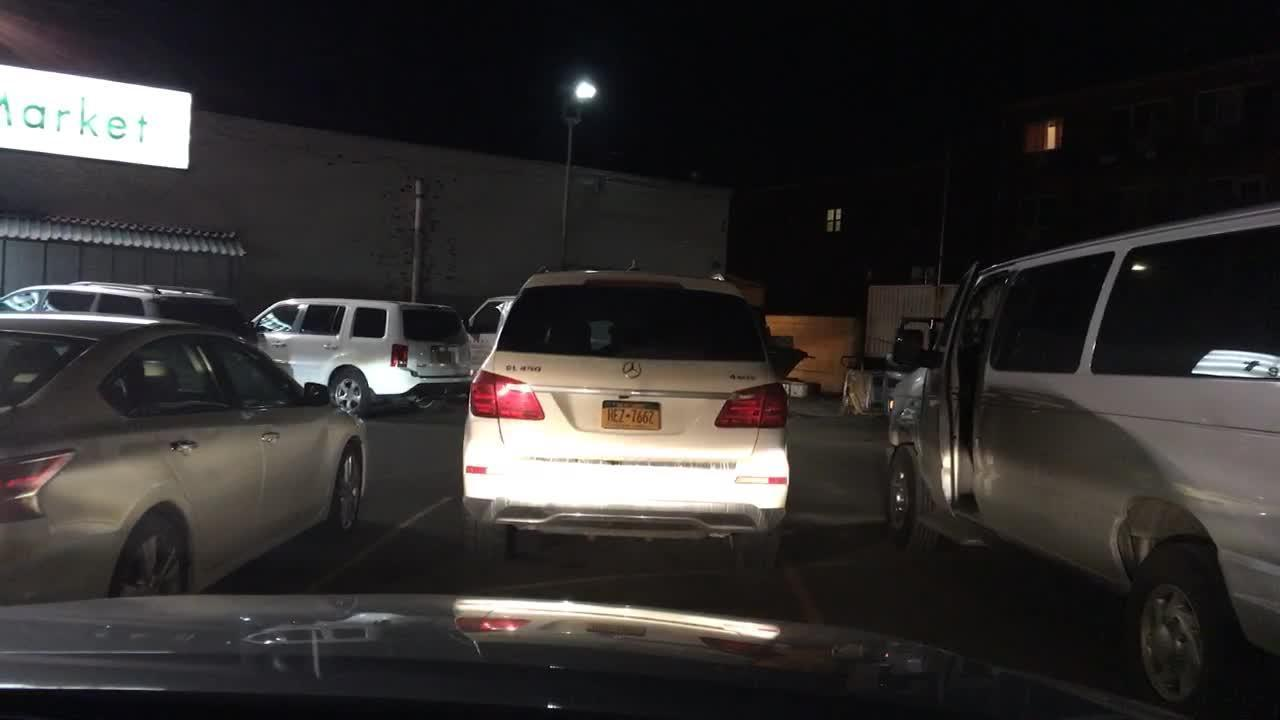Mercedes: (618, 358, 646, 384)
